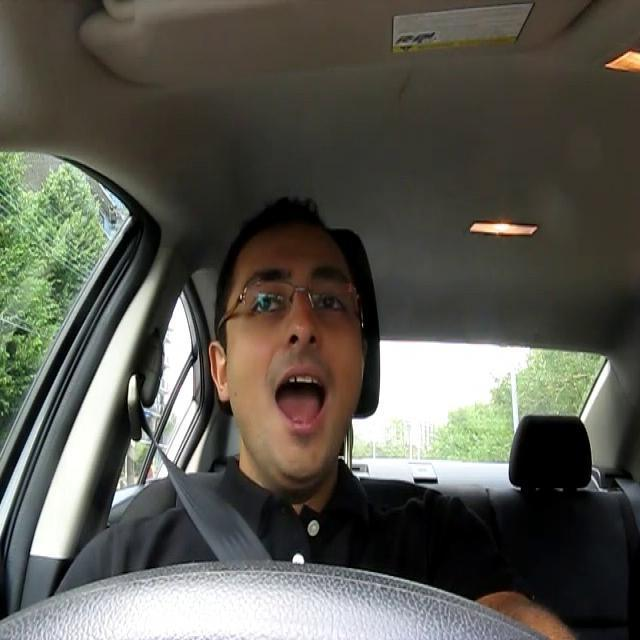open: (304, 262, 360, 322), (241, 264, 295, 324)
